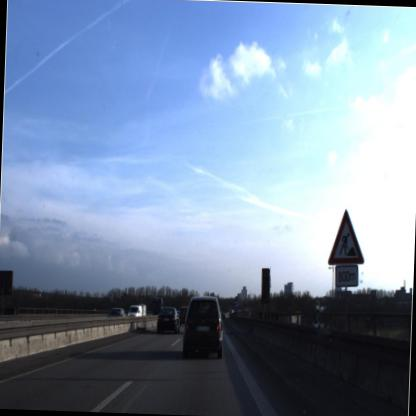danger: (322, 198, 368, 271)
